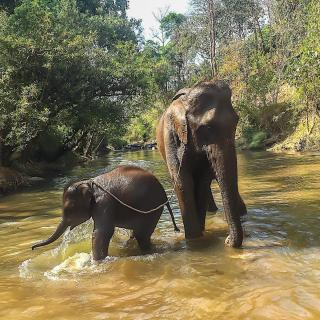Elephant: (158, 70, 265, 259), (22, 170, 185, 266)
